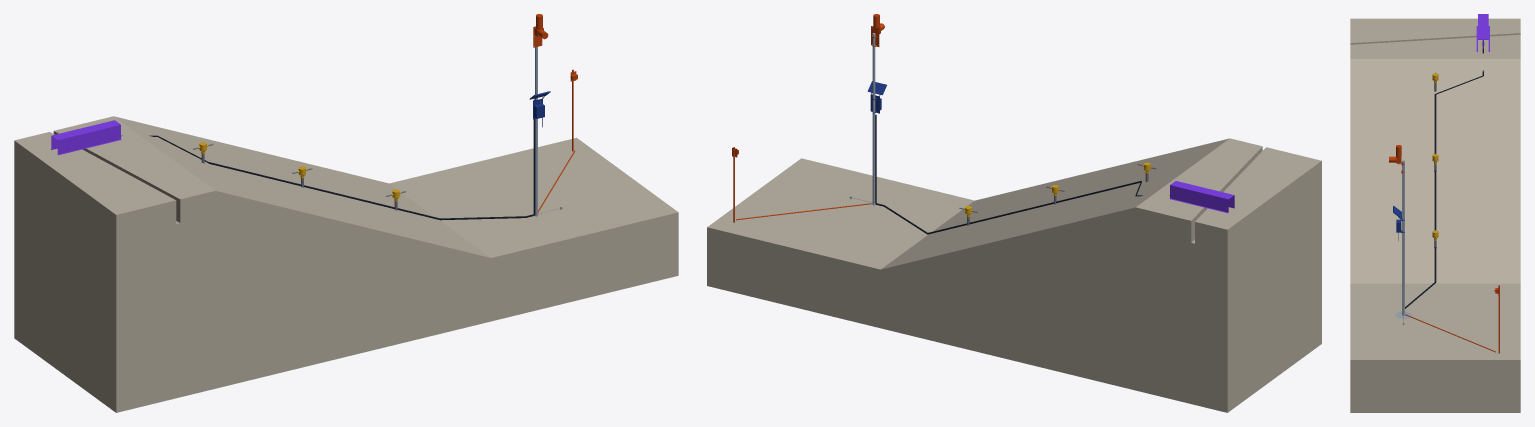
The picture shows the model from 3 angles, left to right: view 1: azimuth 30°, elevation 25°; view 2: azimuth 150°, elevation 25°; view 3: azimuth 270°, elevation 25°; orthographic projection. The views are drawn at different scales.
Visible parts, largest first — view 1: Ground: 25 degree slope with tension crack (site), Crack displacement gauge with reader, Sensor bus cable in conduit, Alert unit and keyed switch post; view 2: Ground: 25 degree slope with tension crack (site), Crack displacement gauge with reader, Sensor bus cable in conduit, Mast, footing and earth rod (site option), Alert unit and keyed switch post; view 3: Ground: 25 degree slope with tension crack (site), Sensor bus cable in conduit, Mast, footing and earth rod (site option), Alert unit and keyed switch post, Crack displacement gauge with reader, Stake heads with conduit fittings (3), FieldNode core with 6 W panel.
Part boxes in pixels (x1,y1,x2,y2): Ground: 25 degree slope with tension crack (site): (14, 116, 678, 412); Crack displacement gauge with reader: (51, 120, 121, 155); Sensor bus cable in conduit: (121, 119, 534, 220); Alert unit and keyed switch post: (533, 14, 577, 212); Ground: 25 degree slope with tension crack (site): (707, 138, 1321, 412); Crack displacement gauge with reader: (1169, 181, 1234, 213); Sensor bus cable in conduit: (875, 115, 1169, 234); Mast, footing and earth rod (site option): (849, 33, 882, 206); Alert unit and keyed switch post: (732, 14, 884, 222); Ground: 25 degree slope with tension crack (site): (1350, 18, 1520, 412); Sensor bus cable in conduit: (1405, 48, 1483, 308); Mast, footing and earth rod (site option): (1395, 160, 1411, 325); Alert unit and keyed switch post: (1389, 145, 1499, 353); Crack displacement gauge with reader: (1476, 14, 1489, 51); Stake heads with conduit fittings (3): (1432, 73, 1438, 240); FieldNode core with 6 W panel: (1393, 206, 1404, 240).
Bounding box in the file's own units: 10.2 × 4.66 × 3.2.
